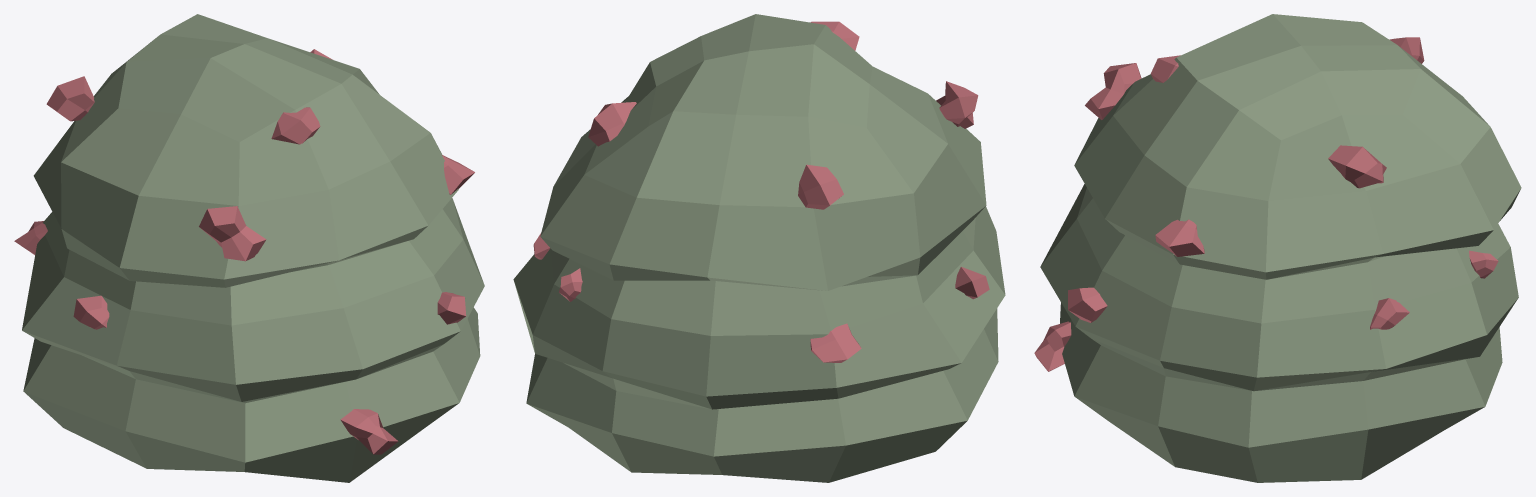
Rendered from bush_f.glb.
3 renders of one model, left to right at view 1: azimuth 30°, elevation 25°; view 2: azimuth 150°, elevation 25°; view 3: azimuth 270°, elevation 25°, orthographic. The views are drawn at different scales.
Visible parts, largest first — view 1: merged; view 2: merged; view 3: merged.
Boxes of the visible parts, x1,y1,x2,y2 form: merged: [14, 14, 484, 482]; merged: [513, 14, 1005, 482]; merged: [1034, 14, 1521, 482].
Size of the model in its own units: 1.34 by 1.13 by 1.33.
